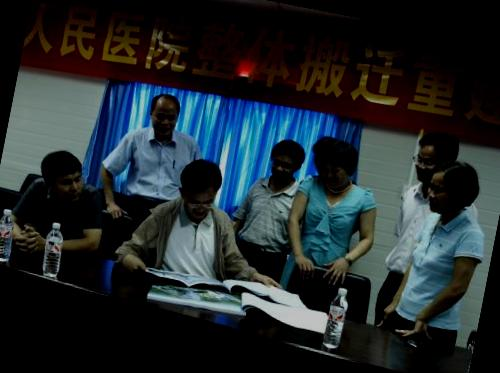no_helmet: (28, 141, 92, 214), (423, 156, 485, 225), (171, 154, 230, 224), (404, 122, 462, 192), (312, 134, 365, 194), (260, 134, 312, 190), (140, 88, 184, 139)
